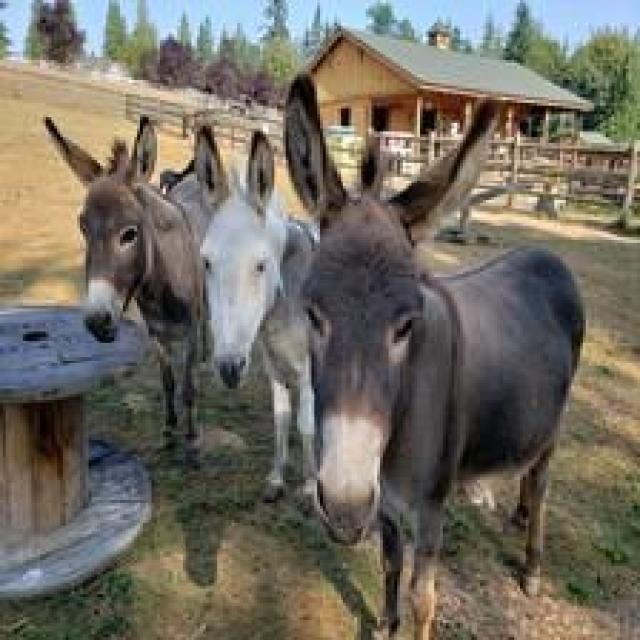Donkey: (280, 69, 586, 637), (40, 111, 217, 463), (191, 120, 320, 506)
